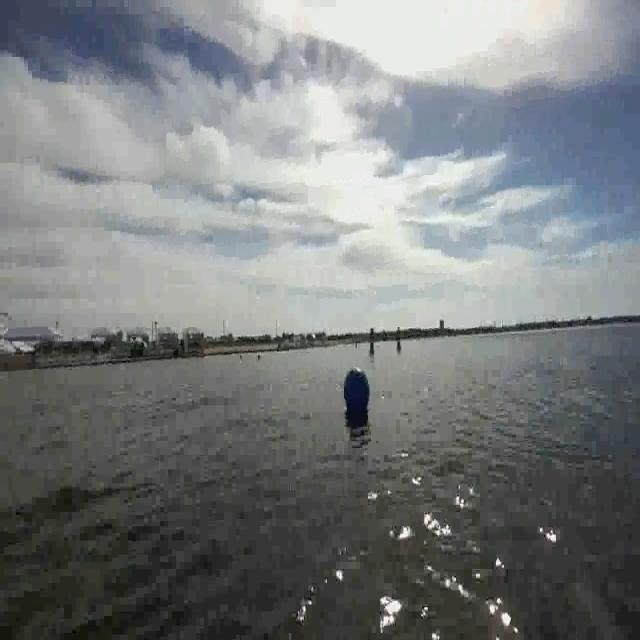blue-buoy: (345, 368, 370, 412)
green-column-buoy: (368, 326, 376, 356)
red-column-buoy: (396, 323, 401, 352)
